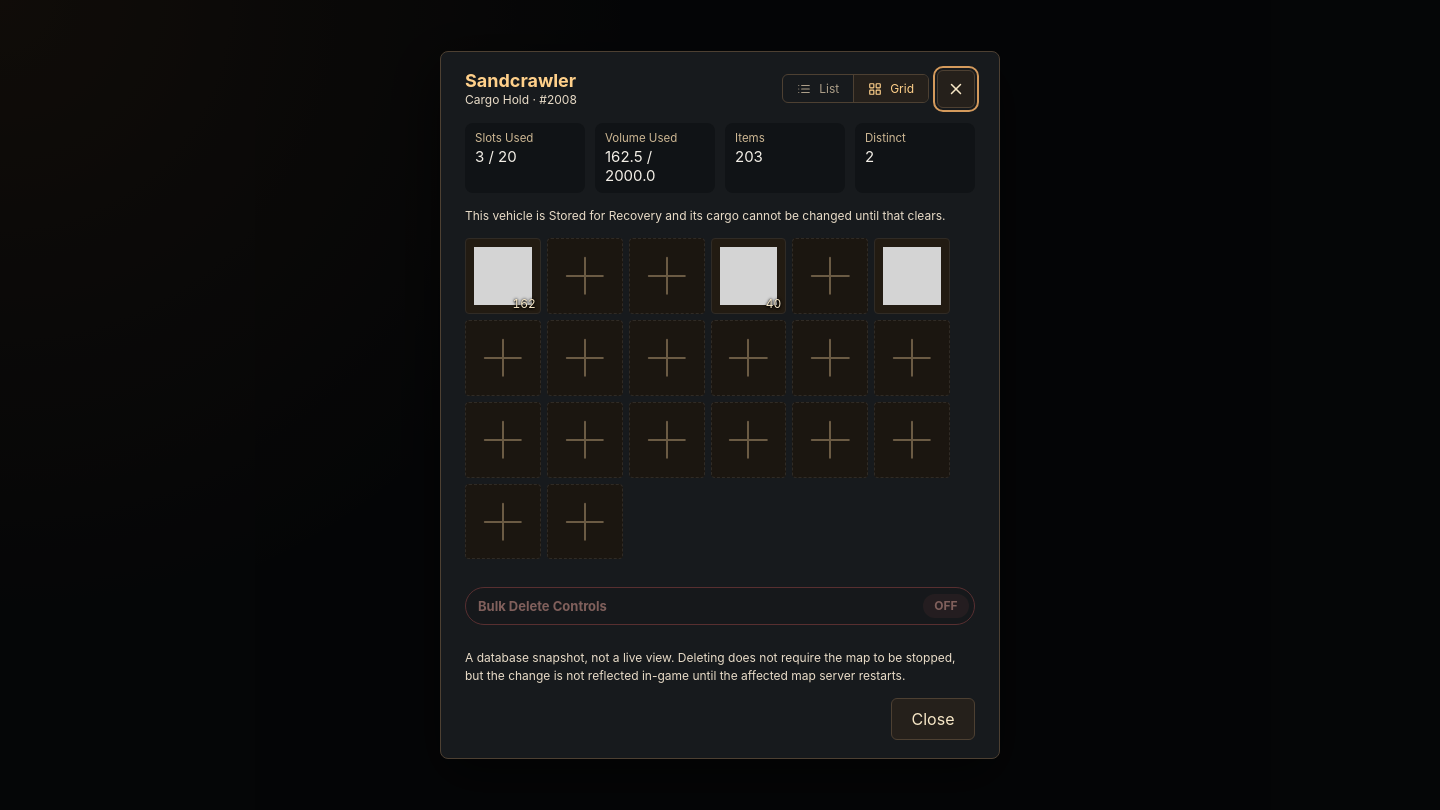
VehicleStorageOverlay deletion › disables deletion and explains why when the vehicle is in a blocked state
The image size is (1440, 810).
Expected: the text "Slots Used" is shown, [475,131,533,145]
What coordinates should you click on to do the following:
click the button "List"
I would click on:
 (818, 89)
Its box is [783,75,853,102].
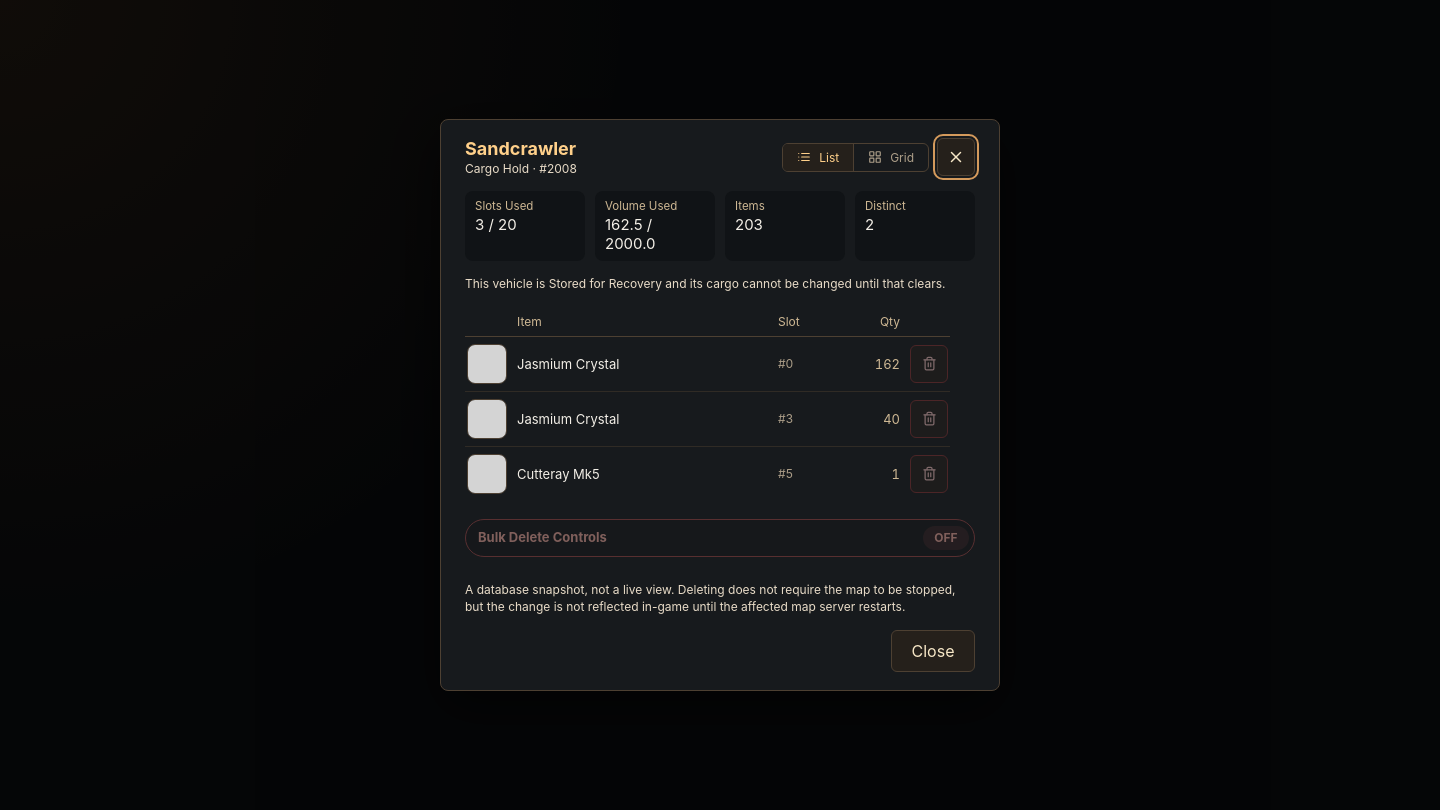
Expected: the text "This vehicle is Stored for Recovery and its cargo cannot be changed" is shown, [465,276,946,291]
Expected: the element with class "bases-inventory-contents-row" showing "Jasmium Crystal #0 162" is shown, [465,337,950,392]
Expected: the button named "Delete Jasmium Crystal from slot 0" is disabled, [910,345,948,383]
